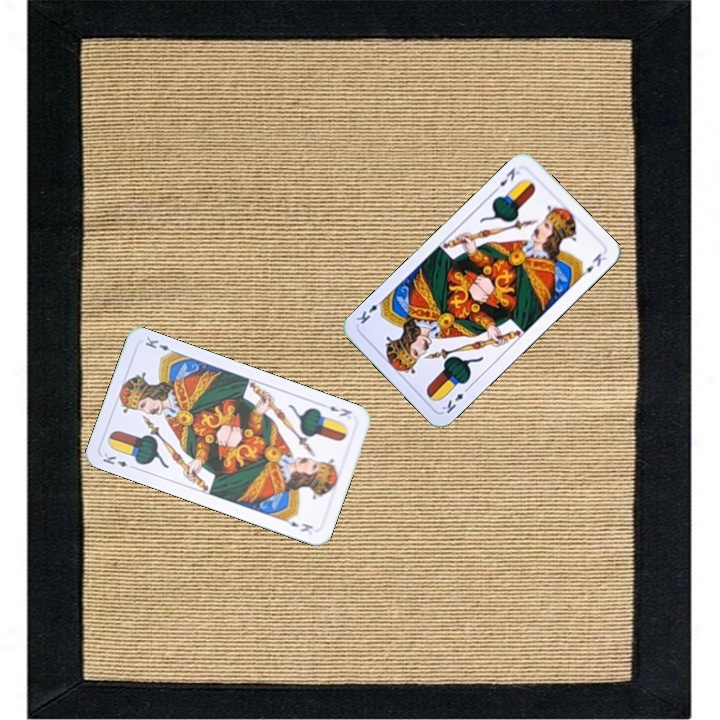EK: (438, 382, 472, 416), (489, 163, 523, 196), (98, 449, 138, 472), (326, 402, 355, 419)
